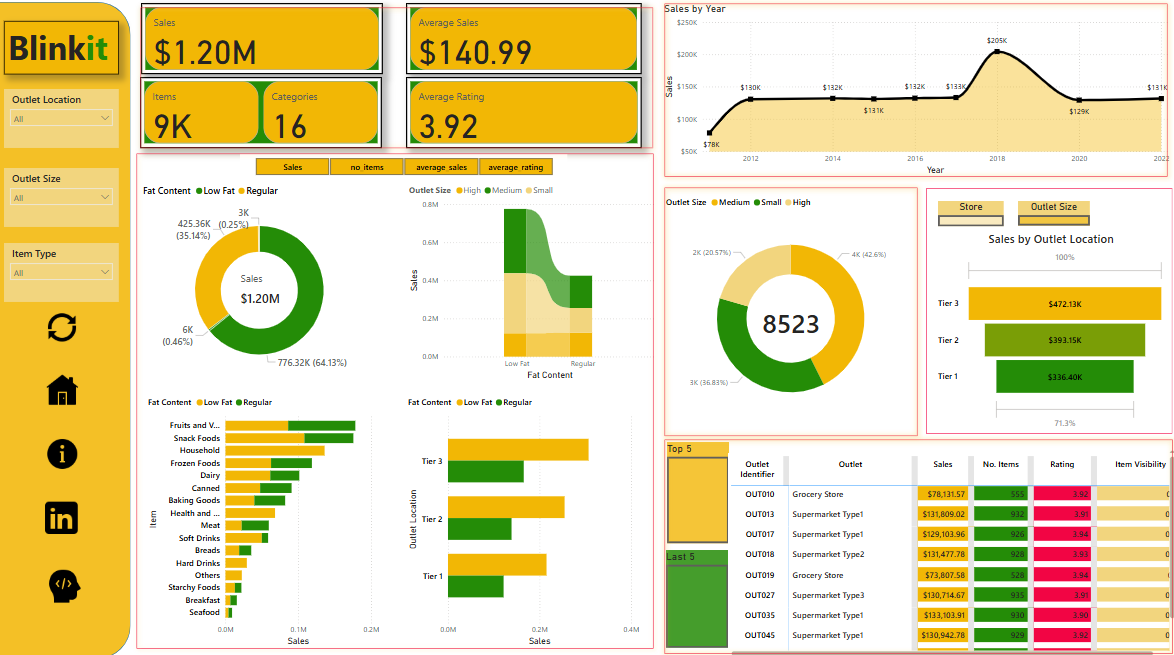

Layout of this report page (visuals, bound fields, positions):
{"tool":"powerbi","page":{"name":"Page 1","canvas":[1920,1080],"ordinal":0},"visuals":[{"type":"lineChart","fields":{"Category":["BlinkIT Grocery Data (2).Outlet Establishment Year"],"Y":["Sum(BlinkIT Grocery Data (2).Sales)"]},"box":[1078.6,10,832.9,285.7],"z":0},{"type":"donutChart","fields":{"Category":["BlinkIT Grocery Data (2).Outlet Size"],"Y":["MeasuresTable.Num_stores"]},"box":[1081.4,315.7,415.7,390],"z":1000},{"type":"funnel","title":"Sales by Outlet Location","fields":{"Y":["Sum(BlinkIT Grocery Data (2).Sales)"],"Category":["BlinkIT Grocery Data (2).Outlet Location Type"]},"box":[1523.9,383.4,378.6,330],"z":4000},{"type":"actionButton","title":"Store","box":[1528.6,307.1,107.1,41.4],"z":5000},{"type":"actionButton","title":"Outlet Size","box":[1652.9,308.6,117.1,40],"z":6000},{"type":"pivotTable","fields":{"Values":["Min(BlinkIT Grocery Data (2).Outlet Type)","Sum(BlinkIT Grocery Data (2).Sales)","MeasuresTable.nukberof_Items","Avg(BlinkIT Grocery Data (2).Rating)","Avg(BlinkIT Grocery Data (2).Item Visibility)"],"Rows":["BlinkIT Grocery Data (2).Outlet Identifier"]},"box":[1187.1,734.1,732.9,336.5],"z":8000},{"type":"actionButton","title":"Top 5","box":[1087.4,725.6,100.6,164.8],"z":9000},{"type":"actionButton","title":"Last 5","box":[1087,902.9,101.4,159.4],"z":10000},{"type":"pivotTable","fields":{"Values":["Min(BlinkIT Grocery Data (2).Outlet Type)","Sum(BlinkIT Grocery Data (2).Sales)","MeasuresTable.nukberof_Items","Avg(BlinkIT Grocery Data (2).Rating)","Avg(BlinkIT Grocery Data (2).Item Visibility)"],"Rows":["BlinkIT Grocery Data (2).Outlet Identifier"]},"box":[1187,743.5,733.3,336.2],"z":11000},{"type":"shape","box":[0,10.2,214.3,1069.4],"z":12000},{"type":"cardVisual","fields":{"Data":["Sum(BlinkIT Grocery Data (2).Sales)"]},"box":[230.6,10.6,394.1,116.5],"z":13000},{"type":"cardVisual","fields":{"Data":["MeasuresTable.average_sales"]},"box":[663.5,10.6,383.5,116.5],"z":14000},{"type":"cardVisual","fields":{"Data":["MeasuresTable.no_items","MeasuresTable.item_categories"]},"box":[230,131.4,394.3,115.7],"z":15000},{"type":"cardVisual","fields":{"Data":["MeasuresTable.average_rating"]},"box":[662.9,131.4,384.3,115.7],"z":16000},{"type":"donutChart","fields":{"Y":["MeasuresTable.sum_sales"],"Category":["BlinkIT Grocery Data (2).Item Fat Content"]},"box":[230,295.7,388.6,334.3],"z":17000},{"type":"ribbonChart","fields":{"Y":["MeasuresTable.sum_sales"],"Category":["BlinkIT Grocery Data (2).Item Fat Content"],"Series":["BlinkIT Grocery Data (2).Outlet Size"]},"box":[662.9,295.7,411.4,334.3],"z":18000},{"type":"barChart","fields":{"Y":["MeasuresTable.sum_sales"],"Category":["BlinkIT Grocery Data (2).Item Type"],"Series":["BlinkIT Grocery Data (2).Item Fat Content"]},"box":[237.5,641.1,387.5,421.4],"z":19000},{"type":"clusteredBarChart","fields":{"Y":["MeasuresTable.sum_sales"],"Category":["BlinkIT Grocery Data (2).Outlet Location Type"],"Series":["BlinkIT Grocery Data (2).Item Fat Content"]},"box":[660.7,641.1,387.5,421.4],"z":20000},{"type":"slicer","fields":{"Values":["Params.Params"]},"box":[392.9,257.1,532.9,38.6],"z":21000},{"type":"shape","box":[214.3,295.7,860,775.7],"z":22000},{"type":"shape","box":[1074.3,712.9,845.7,367.1],"z":23000},{"type":"shape","box":[1074.3,302.9,430,422.9],"z":24000},{"type":"shape","box":[1510,361.4,401.4,351.4],"z":25000},{"type":"shape","box":[1074.3,2.9,837.1,300],"z":26000},{"type":"shape","box":[221.4,10,852.9,247.1],"z":27000},{"type":"textbox","box":[8.6,40,187.1,87.1],"z":28000},{"type":"slicer","fields":{"Values":["BlinkIT Grocery Data (2).Outlet Location Type"]},"box":[8.6,151.4,187.1,95.7],"z":29000},{"type":"slicer","fields":{"Values":["BlinkIT Grocery Data (2).Outlet Size"]},"box":[8.6,280,187.1,95.7],"z":30000},{"type":"slicer","fields":{"Values":["BlinkIT Grocery Data (2).Item Type"]},"box":[8.6,401.4,187.1,95.7],"z":31000},{"type":"cardVisual","fields":{"Data":["Sum(BlinkIT Grocery Data (2).Sales)"]},"box":[375.7,414.3,175.7,125.7],"z":32000},{"type":"cardVisual","fields":{"Data":["MeasuresTable.Num_stores"]},"box":[1224.3,477.1,131.4,100],"z":33000},{"type":"image","box":[71.4,510,62.9,60],"z":34000},{"type":"image","box":[71.4,610,62.9,62.9],"z":35000},{"type":"image","box":[71.4,712.9,62.9,65.7],"z":36000},{"type":"image","box":[65.7,808.6,72.9,81.4],"z":37000},{"type":"image","box":[72.9,924.3,67.1,70],"z":38000}]}

Visuals, with their boxes in screenshot pixels (x1, y1, x2, y2), scaled from the page's 1920x1080 canvas onto the 1174x655 screenshot:
lineChart - BlinkIT Grocery Data (2).Outlet Establishment Year x Sum(BlinkIT Grocery Data (2).Sales): x1=660 y1=6 x2=1169 y2=179
donutChart - BlinkIT Grocery Data (2).Outlet Size x MeasuresTable.Num_stores: x1=661 y1=191 x2=915 y2=428
"Sales by Outlet Location" funnel: x1=932 y1=233 x2=1163 y2=433
"Store" actionButton: x1=935 y1=186 x2=1000 y2=211
"Outlet Size" actionButton: x1=1011 y1=187 x2=1082 y2=211
pivotTable - Min(BlinkIT Grocery Data (2).Outlet Type) x Sum(BlinkIT Grocery Data (2).Sales): x1=726 y1=445 x2=1173 y2=649
"Top 5" actionButton: x1=665 y1=440 x2=726 y2=540
"Last 5" actionButton: x1=665 y1=548 x2=727 y2=644
pivotTable - Min(BlinkIT Grocery Data (2).Outlet Type) x Sum(BlinkIT Grocery Data (2).Sales): x1=726 y1=451 x2=1173 y2=654
shape: x1=0 y1=6 x2=131 y2=654
cardVisual - Sum(BlinkIT Grocery Data (2).Sales): x1=141 y1=6 x2=382 y2=77
cardVisual - MeasuresTable.average_sales: x1=406 y1=6 x2=640 y2=77
cardVisual - MeasuresTable.no_items x MeasuresTable.item_categories: x1=141 y1=80 x2=382 y2=150
cardVisual - MeasuresTable.average_rating: x1=405 y1=80 x2=640 y2=150
donutChart - MeasuresTable.sum_sales x BlinkIT Grocery Data (2).Item Fat Content: x1=141 y1=179 x2=378 y2=382
ribbonChart - MeasuresTable.sum_sales x BlinkIT Grocery Data (2).Item Fat Content: x1=405 y1=179 x2=657 y2=382
barChart - MeasuresTable.sum_sales x BlinkIT Grocery Data (2).Item Type: x1=145 y1=389 x2=382 y2=644
clusteredBarChart - MeasuresTable.sum_sales x BlinkIT Grocery Data (2).Outlet Location Type: x1=404 y1=389 x2=641 y2=644
slicer - Params.Params: x1=240 y1=156 x2=566 y2=179
shape: x1=131 y1=179 x2=657 y2=650
shape: x1=657 y1=432 x2=1173 y2=654
shape: x1=657 y1=184 x2=920 y2=440
shape: x1=923 y1=219 x2=1169 y2=432
shape: x1=657 y1=2 x2=1169 y2=184
shape: x1=135 y1=6 x2=657 y2=156
textbox: x1=5 y1=24 x2=120 y2=77
slicer - BlinkIT Grocery Data (2).Outlet Location Type: x1=5 y1=92 x2=120 y2=150
slicer - BlinkIT Grocery Data (2).Outlet Size: x1=5 y1=170 x2=120 y2=228
slicer - BlinkIT Grocery Data (2).Item Type: x1=5 y1=243 x2=120 y2=301
cardVisual - Sum(BlinkIT Grocery Data (2).Sales): x1=230 y1=251 x2=337 y2=328
cardVisual - MeasuresTable.Num_stores: x1=749 y1=289 x2=829 y2=350
image: x1=44 y1=309 x2=82 y2=346
image: x1=44 y1=370 x2=82 y2=408
image: x1=44 y1=432 x2=82 y2=472
image: x1=40 y1=490 x2=85 y2=540
image: x1=45 y1=561 x2=86 y2=603
